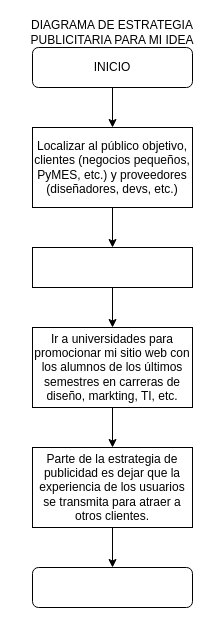
This 224x625 diagram has some shape labels left out. Each missing label, with the centre of its shape:
FIN: (x=112, y=587)
Publicitar mi sitio web por medio de redes sociales: (x=112, y=267)
